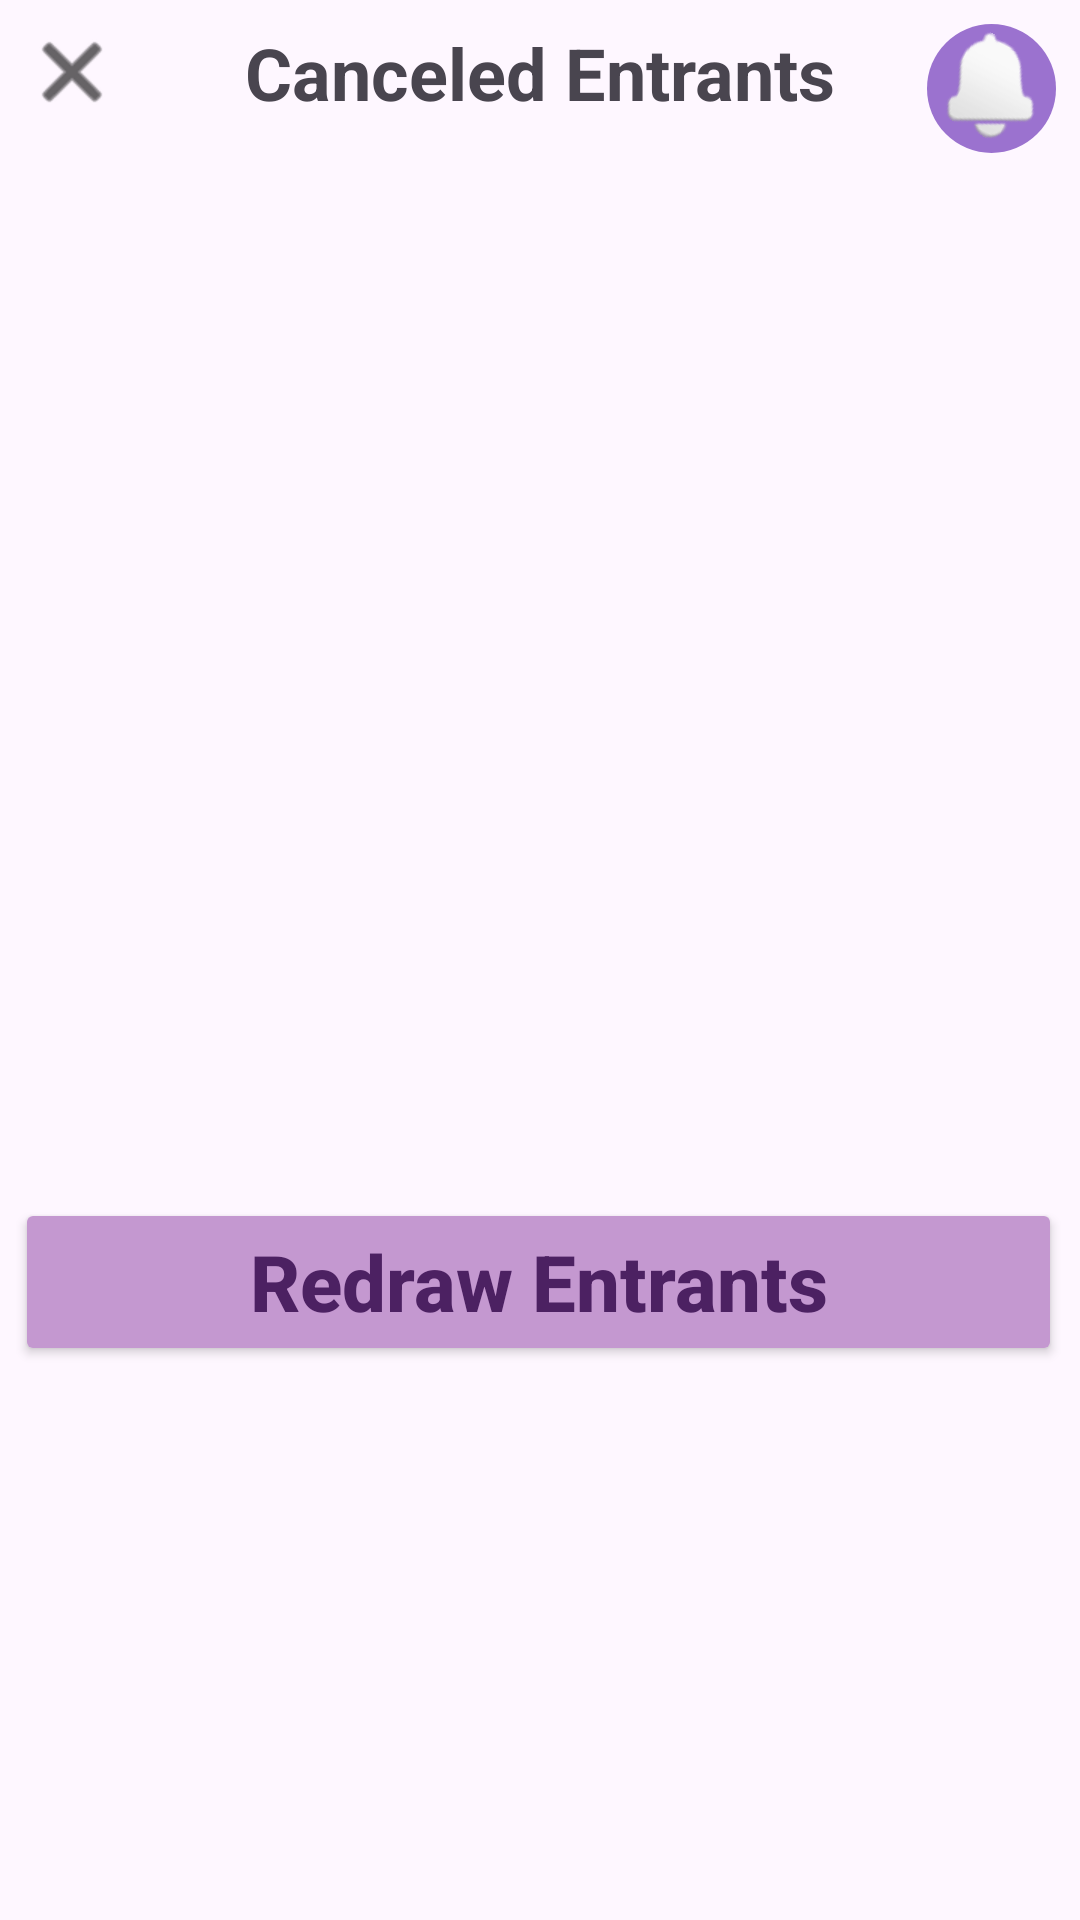

Icon bounding boxes for this 1080x1920 phone screenshot, format BBox(x1, y1, x2, y2):
close clear cancel: BBox(42, 42, 102, 102)
